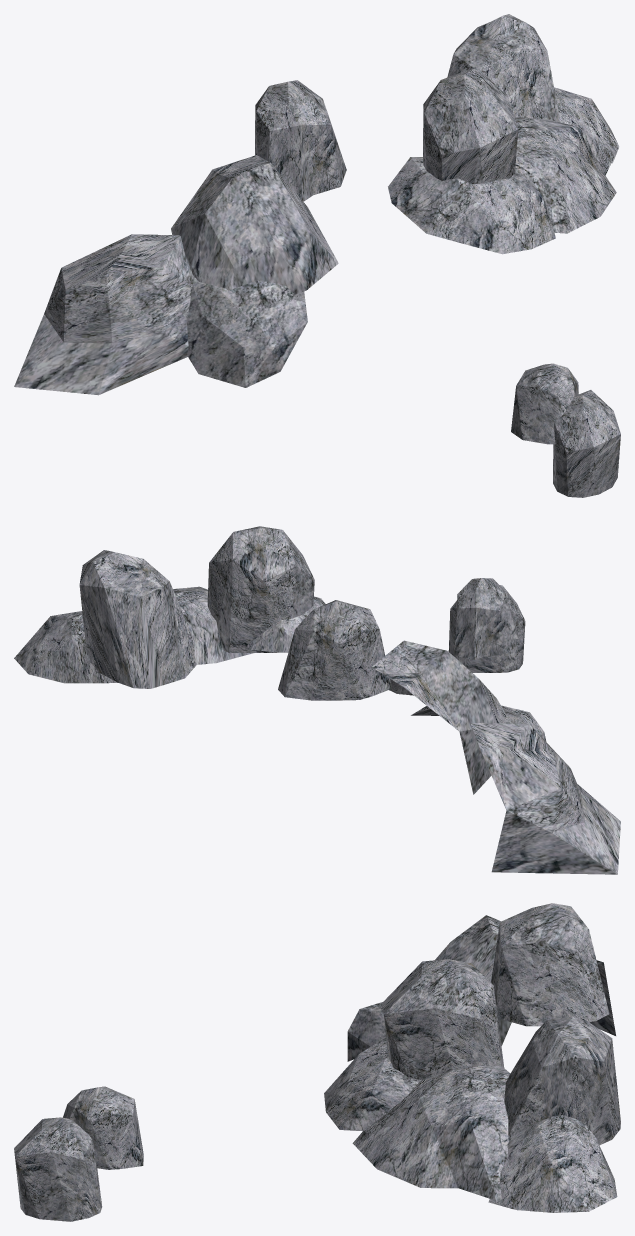
The model's file is des_rockgp2_22.obj.
3 views of the same model, one above another, from view 1: azimuth 30°, elevation 25°; view 2: azimuth 150°, elevation 25°; view 3: azimuth 270°, elevation 25° (orthographic). The views are drawn at different scales.
Visible parts, largest first — view 1: des_rockgp2_22; view 2: des_rockgp2_22; view 3: des_rockgp2_22.
Boxes of the visible parts, bbox=[...] form: des_rockgp2_22: bbox=[14, 14, 620, 497]; des_rockgp2_22: bbox=[14, 526, 620, 874]; des_rockgp2_22: bbox=[14, 903, 620, 1221].
Size of the model in its own units: 120 by 49.12 by 95.25.
Materials: 2 (2 with a texture image).
